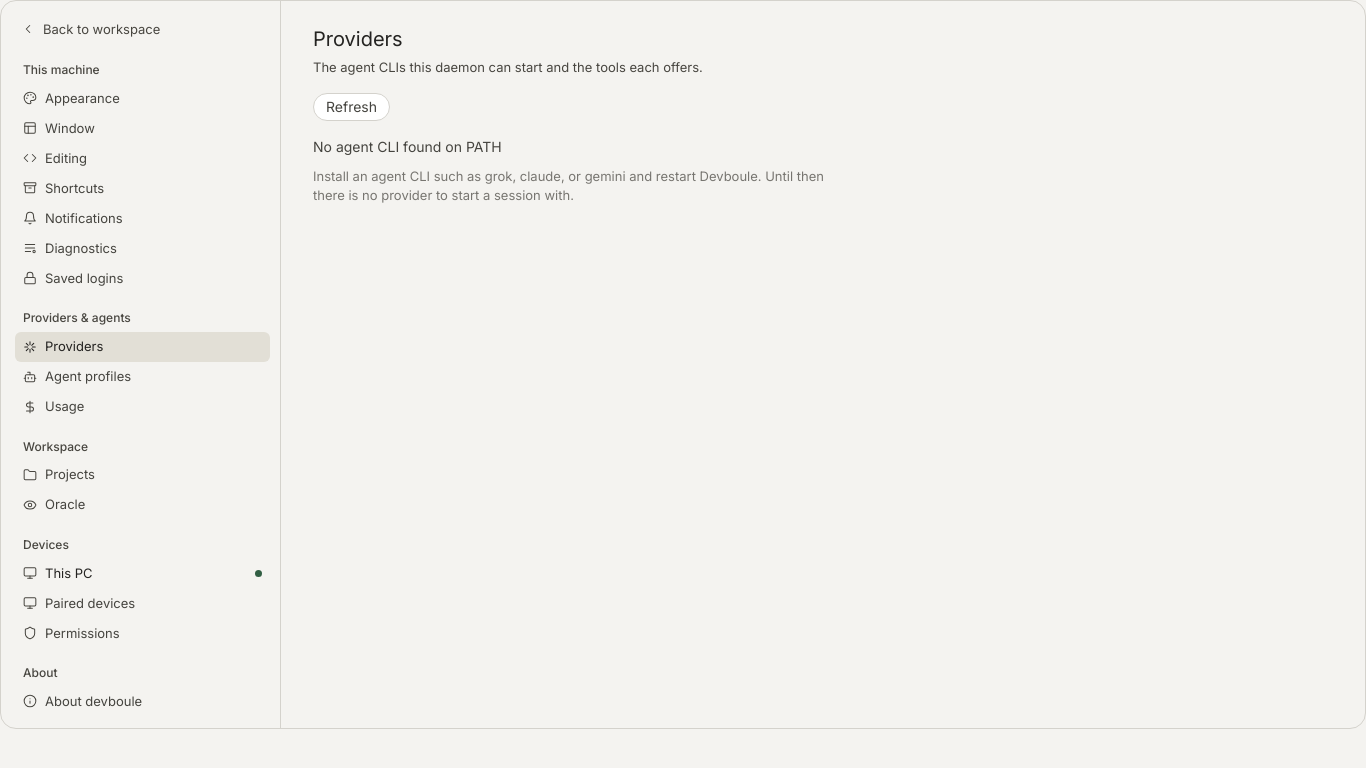
Test case: Settings removed placeholder rows › shows live projects with no Worktree defaults block
The image size is (1366, 768).
Click the button "Projects" at [142, 475], box [15, 460, 270, 490]
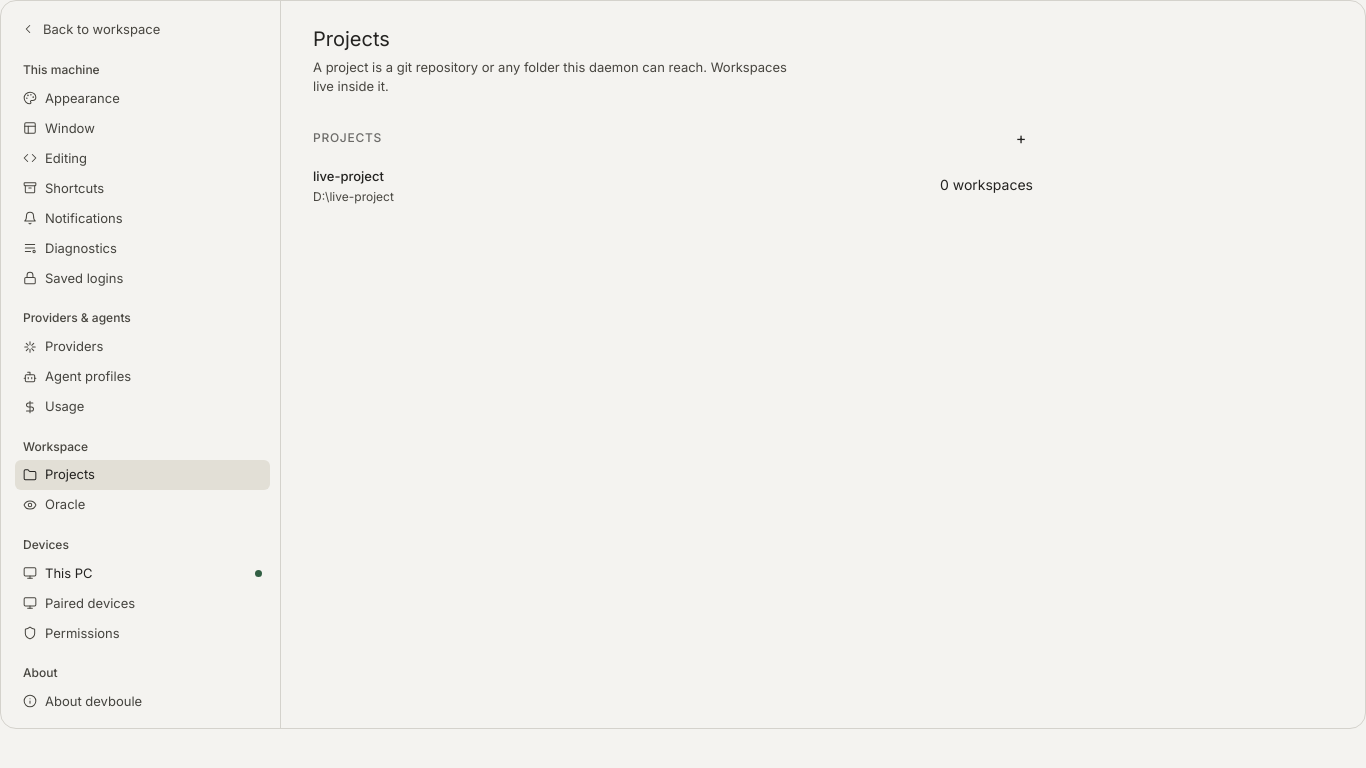
Expected: the text "live-project" is shown, [313, 168, 384, 184]
Expected: the button named "Add project" is shown, [1009, 126, 1033, 150]
